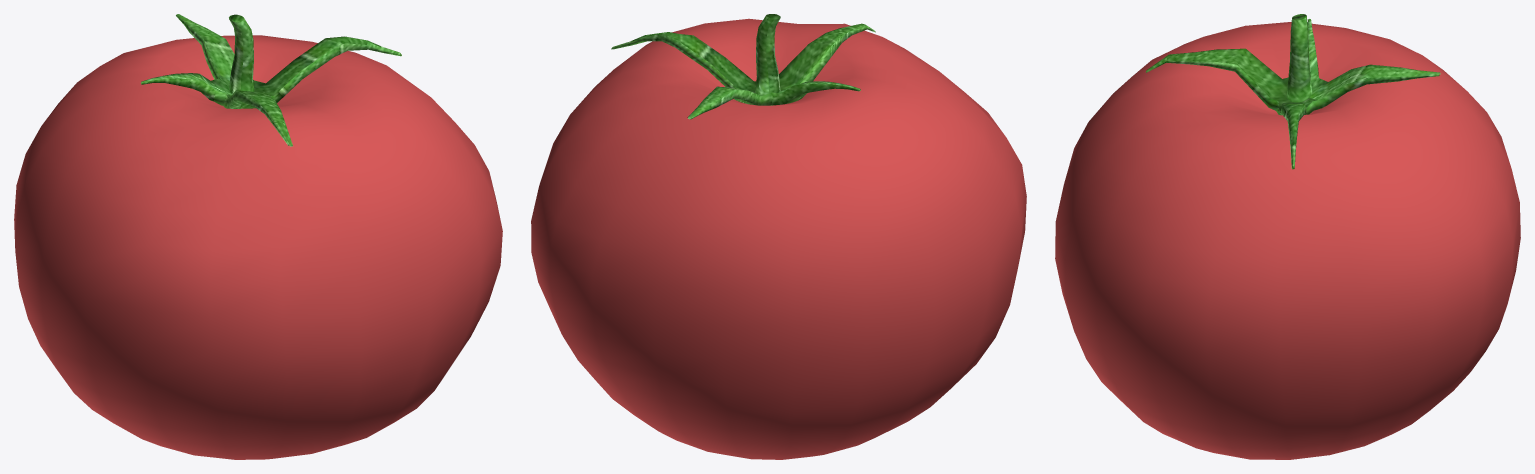
The model's file is Tomato 1.fbx.
3 views of the same model, side by side, from view 1: azimuth 30°, elevation 25°; view 2: azimuth 150°, elevation 25°; view 3: azimuth 270°, elevation 25° (orthographic). The views are drawn at different scales.
Parts seen in each view (by area): view 1: WholeTomato; view 2: WholeTomato; view 3: WholeTomato.
Part boxes in pixels (x1,y1,x2,y2): WholeTomato: (14, 14, 502, 459); WholeTomato: (531, 14, 1026, 459); WholeTomato: (1055, 14, 1520, 459).
Bounding box in the file's own units: 11.3 × 10.5 × 10.87.
